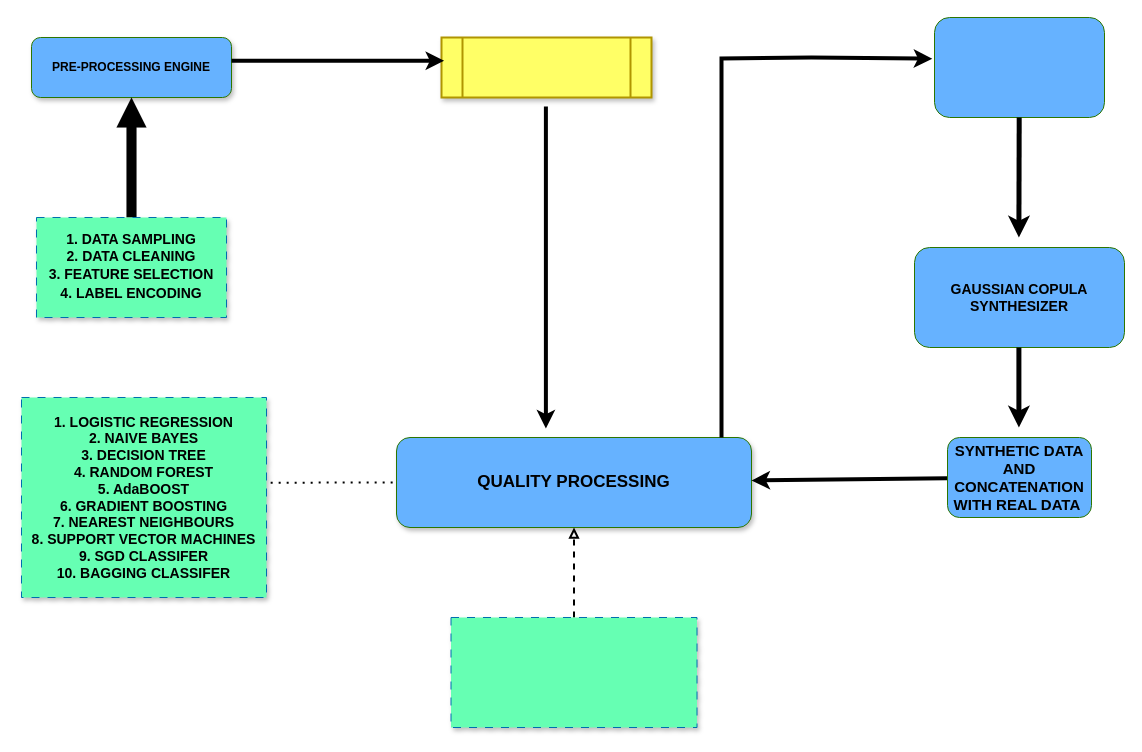
The diagram is 1142 pixels wide and 752 high, and some of its shapes have lost their labels. The centre of each missing label's shape, as x and y in pixels:
"ACCURACY PRECISION RECALL" belongs at point (574, 673).
"PRE-PROCESSED DATA" belongs at point (547, 68).
"SYNTHETIC DATA GENERATION" belongs at point (1019, 67).
